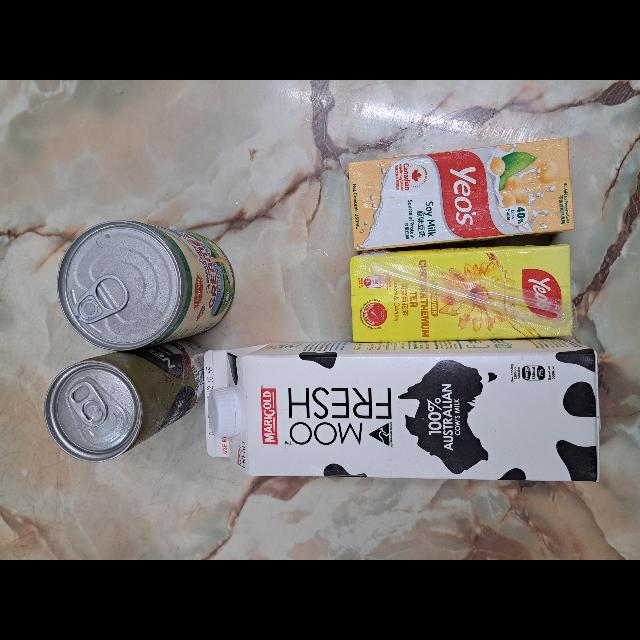aba de lata: (74, 273, 130, 325), (69, 378, 109, 426)
caixinha: (203, 340, 602, 482), (351, 139, 573, 251), (353, 246, 577, 340)
lata: (59, 222, 237, 348), (48, 343, 202, 462)
tampa plástica: (205, 386, 245, 438)
